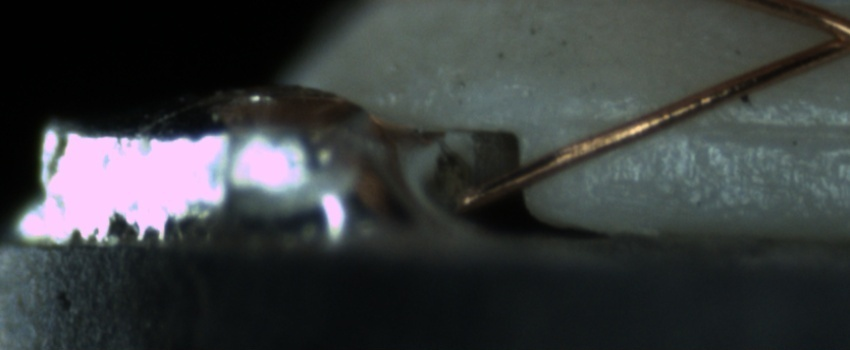CL: (796, 5, 850, 63)
DL: (562, 94, 846, 157)
